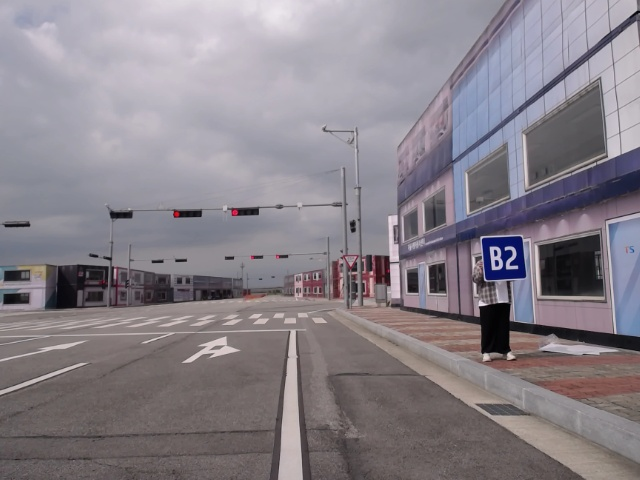delivery_b2: (479, 235, 528, 283)
red_4: (227, 205, 260, 216), (174, 208, 204, 219), (250, 253, 265, 261), (275, 253, 291, 260)
